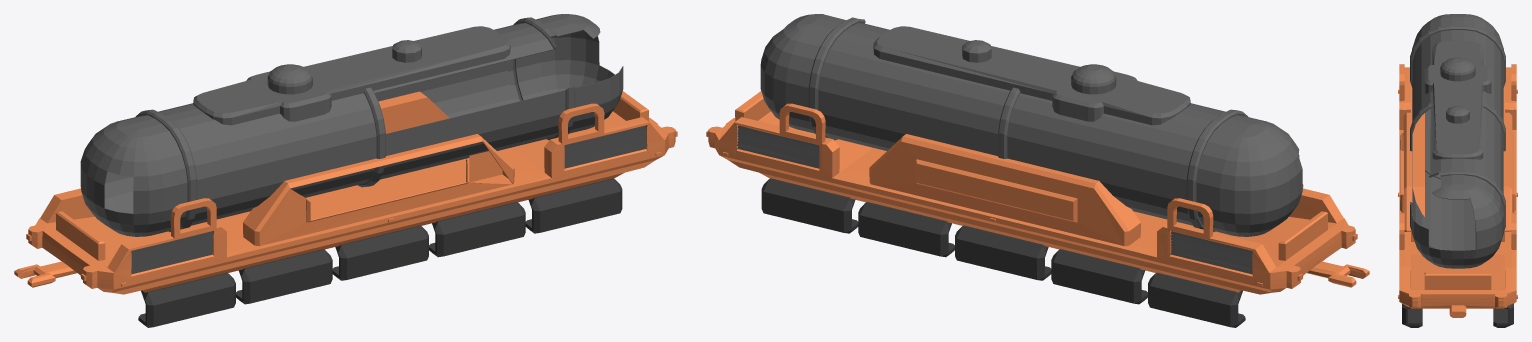
File: 05 Oiltank_Lorry.FBX
3 renders of one model, left to right at view 1: azimuth 30°, elevation 25°; view 2: azimuth 150°, elevation 25°; view 3: azimuth 270°, elevation 25°, orthographic. The views are drawn at different scales.
Parts seen in each view (by area): view 1: Train_2; view 2: Train_2; view 3: Train_2.
Part boxes in pixels (<box>): Train_2: <box>14,14,677,327</box>; Train_2: <box>706,14,1369,327</box>; Train_2: <box>1398,14,1517,327</box>.
Size of the model in its own units: 4393 by 1304 by 919.
